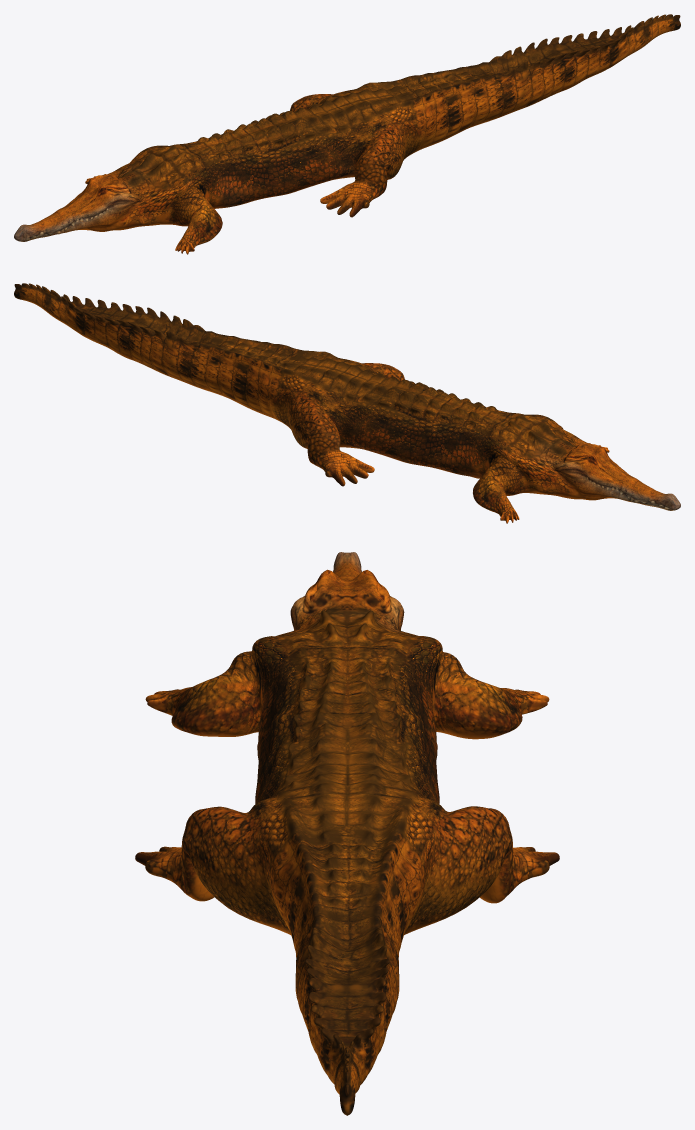
The model's file is Buaya Senyulong.fbx.
3 renders of one model, top to bottom at view 1: azimuth 30°, elevation 25°; view 2: azimuth 150°, elevation 25°; view 3: azimuth 270°, elevation 25°, orthographic. The views are drawn at different scales.
Parts seen in each view (by area): view 1: 12262_Crocodile_v1_l2; view 2: 12262_Crocodile_v1_l2; view 3: 12262_Crocodile_v1_l2.
Part boxes in pixels (bbox=[...]): 12262_Crocodile_v1_l2: bbox=[14, 14, 680, 254]; 12262_Crocodile_v1_l2: bbox=[14, 283, 680, 523]; 12262_Crocodile_v1_l2: bbox=[135, 552, 559, 1115].
Bounding box in the file's own units: 23528 × 2593 × 6498.
Materials: 1 (1 with a texture image).
